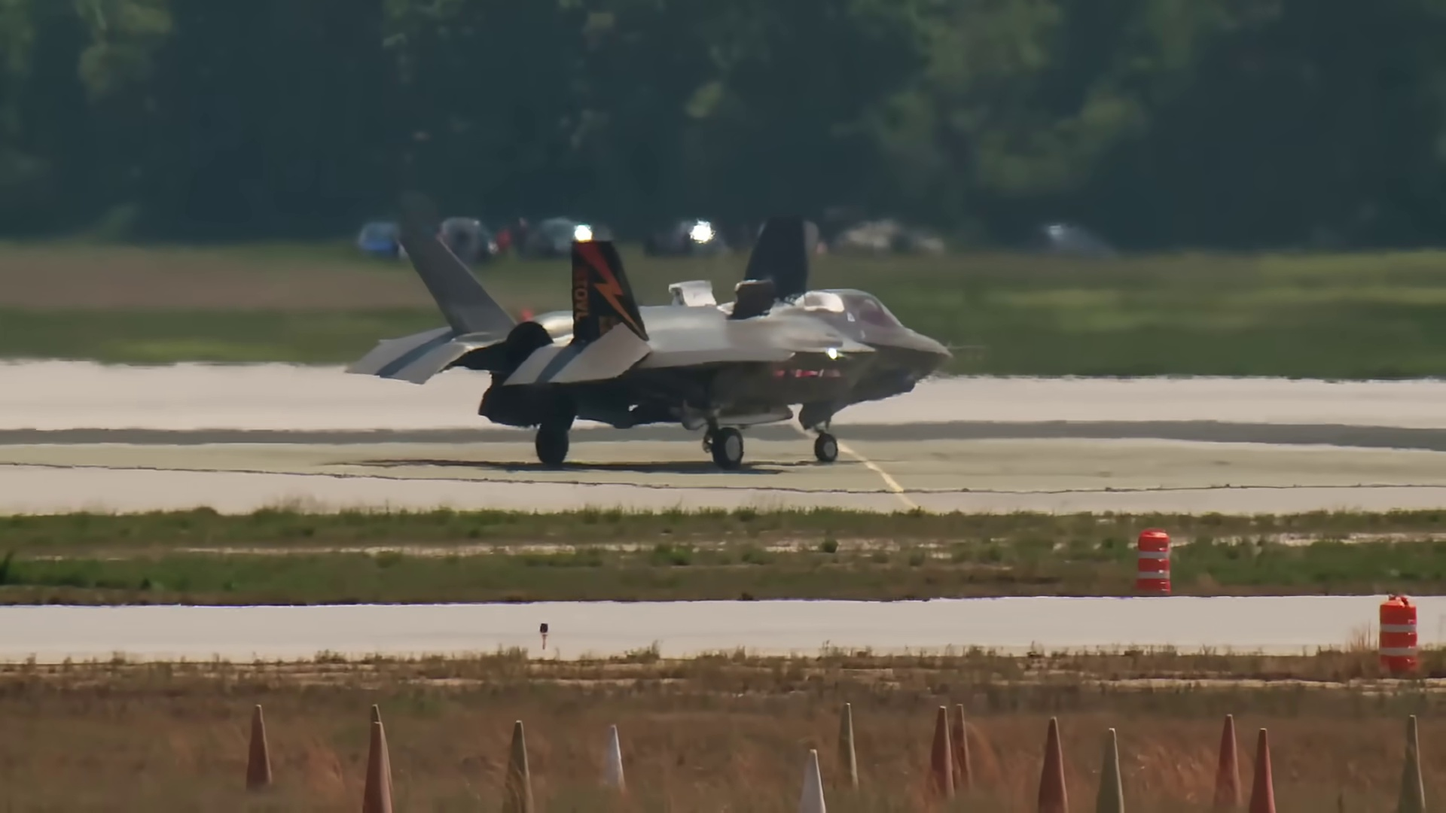F35: (343, 220, 959, 468)
